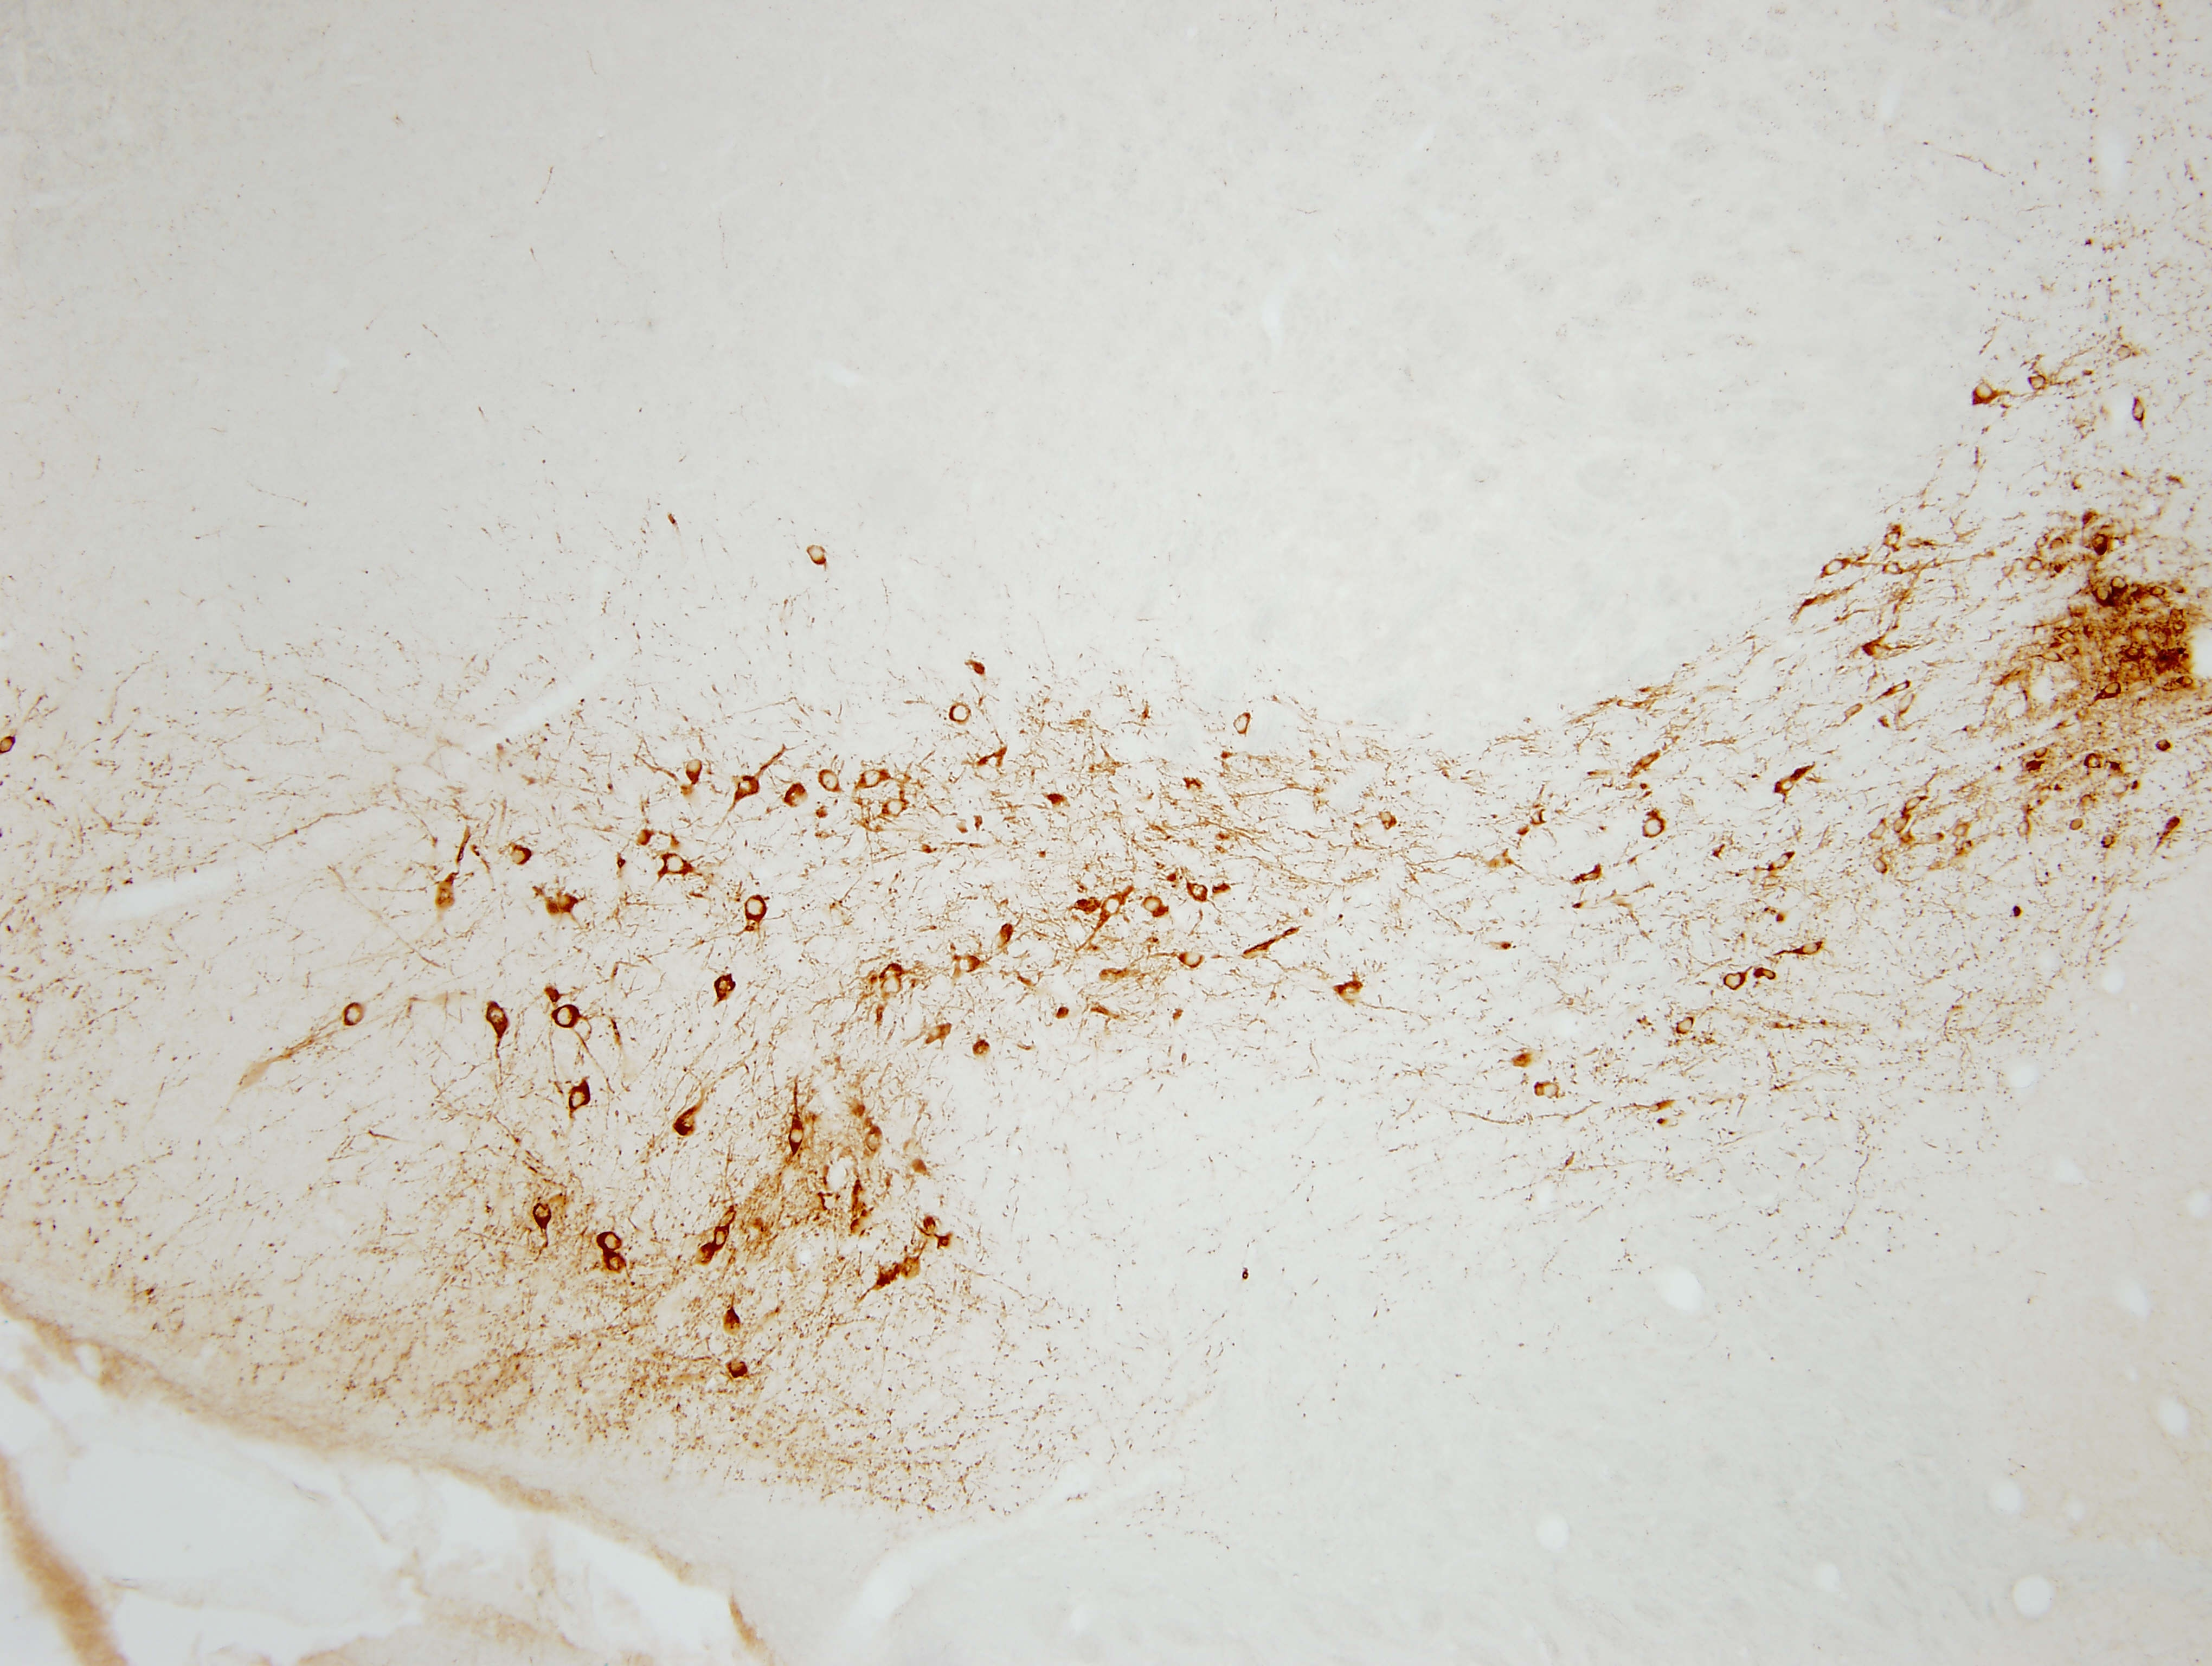neuron: (567, 1087, 593, 1113), (598, 1227, 624, 1253), (682, 758, 708, 784), (713, 973, 740, 999), (715, 1204, 741, 1230), (726, 1358, 752, 1384), (734, 775, 761, 801), (743, 896, 769, 922), (789, 1123, 815, 1150), (818, 770, 845, 796), (862, 766, 888, 793), (949, 703, 976, 730), (956, 950, 983, 976), (1102, 893, 1128, 919), (1142, 893, 1168, 919), (1179, 949, 1205, 975), (1187, 878, 1214, 905), (1577, 865, 1603, 891), (1642, 816, 1668, 842), (1722, 968, 1749, 994), (1768, 851, 1794, 877), (1820, 555, 1847, 581), (1866, 817, 1892, 843), (1882, 525, 1908, 551), (1885, 677, 1911, 703), (1972, 380, 1999, 406), (2027, 369, 2053, 396), (2100, 679, 2126, 705), (341, 1001, 367, 1027), (509, 842, 535, 868), (532, 1199, 558, 1225), (554, 1005, 581, 1029), (603, 1253, 630, 1278), (664, 852, 689, 878), (710, 1222, 734, 1248), (804, 544, 831, 569), (883, 796, 909, 821), (1231, 712, 1257, 737), (1798, 936, 1822, 963), (1882, 555, 1906, 581), (2128, 397, 2154, 422), (483, 1005, 509, 1029), (1530, 807, 1549, 828), (1757, 964, 1778, 984), (2062, 641, 2083, 660), (2091, 585, 2112, 604), (2147, 581, 2168, 600), (2170, 618, 2191, 637), (1378, 808, 1397, 828), (1541, 1081, 1560, 1101), (1677, 1017, 1696, 1036), (1778, 779, 1798, 798), (1871, 856, 1890, 875), (1892, 816, 1911, 835), (1904, 795, 1923, 814), (1953, 821, 1972, 840), (2016, 817, 2035, 836), (2027, 555, 2046, 574), (2034, 742, 2053, 761), (2042, 646, 2062, 665), (2058, 625, 2077, 644), (2069, 816, 2088, 835), (2084, 753, 2104, 772), (2091, 530, 2111, 550), (2100, 833, 2119, 852), (2112, 574, 2132, 593), (2116, 343, 2135, 362), (2125, 646, 2144, 665), (2154, 735, 2174, 754), (2179, 670, 2198, 690)
